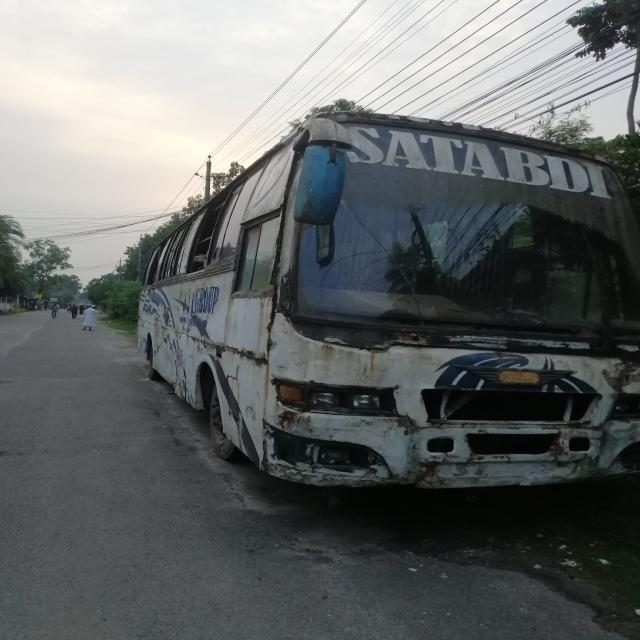Bus: (272, 121, 640, 487)
